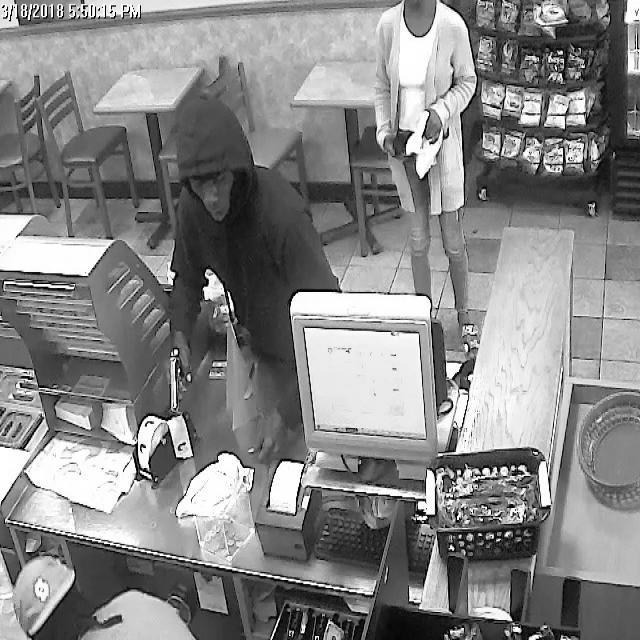Gun: (157, 343, 196, 415)
